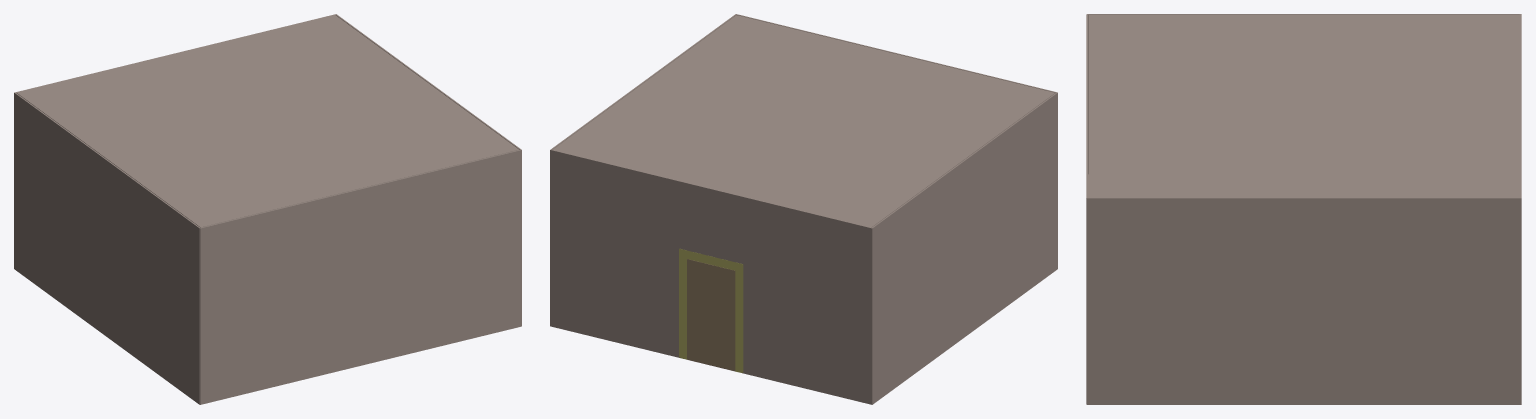
The model's file is Room12_CoalChute.fbx.
The picture shows the model from 3 angles, left to right: view 1: azimuth 30°, elevation 25°; view 2: azimuth 150°, elevation 25°; view 3: azimuth 270°, elevation 25°; orthographic projection. The views are drawn at different scales.
Visible parts, largest first — view 1: Roof, WallPosZ, WallPosX, WallNegX; view 2: Roof, WallSlicedNegZ, WallPosX, DoorNegZ, DoorFrameNegZ, WallNegX, WallPosZ; view 3: WallNegX, Roof, WallPosZ, WallPosX, WallSlicedNegZ.
Boxes of the visible parts, x1,y1,x2,y2 form: Roof: [17, 15, 518, 227]; WallPosZ: [200, 149, 521, 404]; WallPosX: [14, 92, 199, 404]; WallNegX: [336, 14, 521, 325]; Roof: [553, 15, 1054, 227]; WallSlicedNegZ: [550, 149, 872, 404]; WallPosX: [870, 92, 1057, 404]; DoorNegZ: [687, 259, 735, 370]; DoorFrameNegZ: [679, 248, 743, 372]; WallNegX: [550, 14, 736, 326]; WallPosZ: [736, 14, 1057, 92]; WallNegX: [1087, 197, 1521, 404]; Roof: [1088, 15, 1519, 197]; WallPosZ: [1086, 14, 1088, 404]; WallPosX: [1087, 14, 1521, 174]; WallSlicedNegZ: [1519, 14, 1521, 197].
Size of the model in its own units: 100 by 52.5 by 100.
